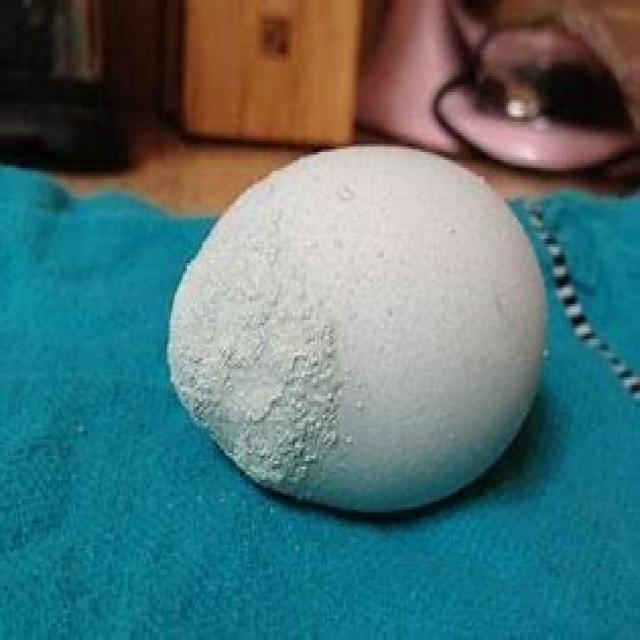Calcium Deposit Egg: (172, 134, 554, 529)
